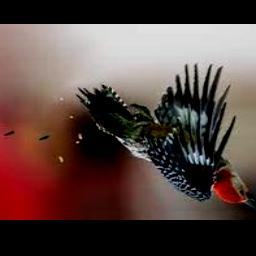Woodpecker: (77, 64, 256, 212)
